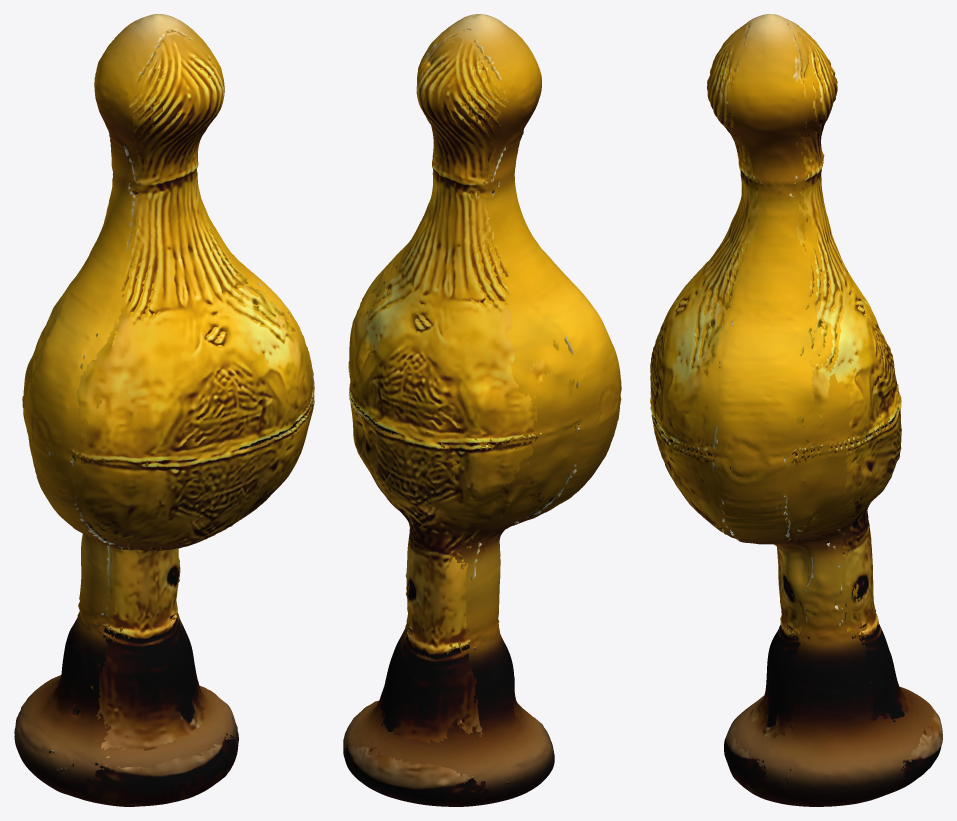
File: kfl-2291.glb
3 views of the same model, side by side, from view 1: azimuth 30°, elevation 25°; view 2: azimuth 150°, elevation 25°; view 3: azimuth 270°, elevation 25° (orthographic). The views are drawn at different scales.
Visible parts, largest first — view 1: kfl-2291; view 2: kfl-2291; view 3: kfl-2291.
Part boxes in pixels (x1=…): kfl-2291: x1=14, y1=14, x2=314, y2=806; kfl-2291: x1=343, y1=14, x2=621, y2=806; kfl-2291: x1=650, y1=14, x2=942, y2=806.
Bounding box in the file's own units: 0.3512 × 0.9955 × 0.347.
Materials: 4 (4 with a texture image).
